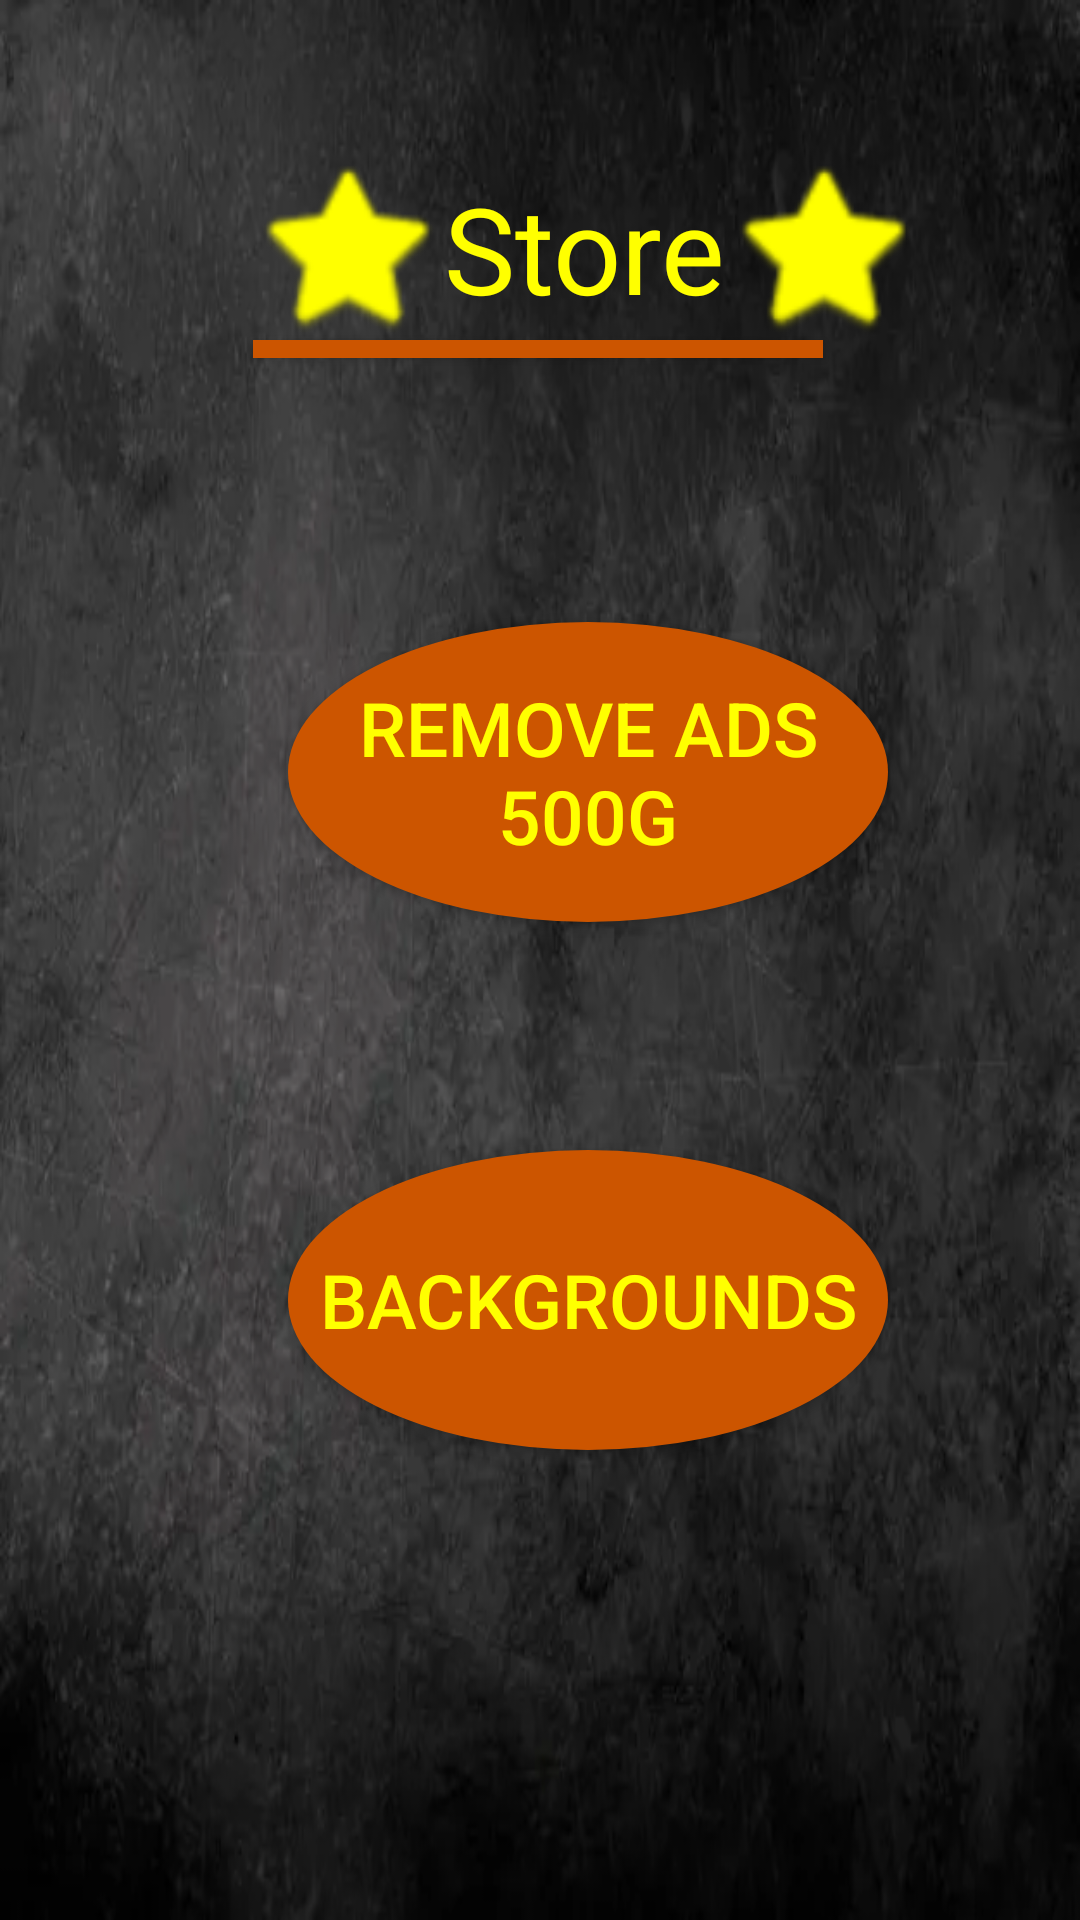

Point at icon controls on the screen. Image size 1080×1920, points as [x,y].
star: [355,225], [824,247]
